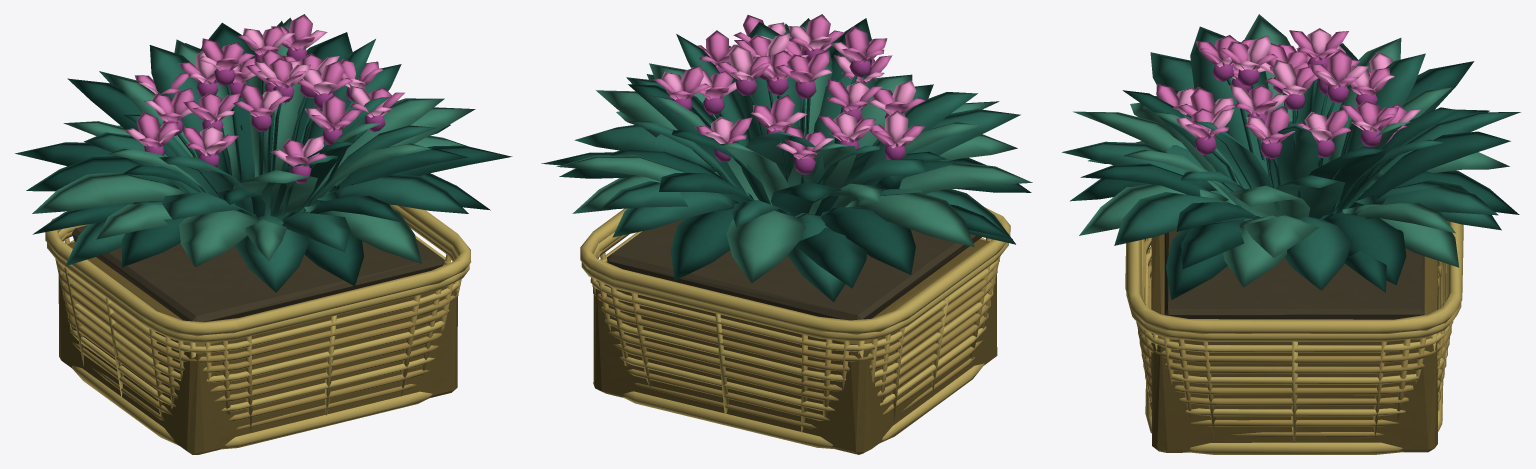
The model's file is 02_Flower_Basket_LOD1.fbx.
3 renders of one model, left to right at view 1: azimuth 30°, elevation 25°; view 2: azimuth 150°, elevation 25°; view 3: azimuth 270°, elevation 25°, orthographic. The views are drawn at different scales.
Visible parts, largest first — view 1: 02_Flower_Basket_LOD1_Mesh; view 2: 02_Flower_Basket_LOD1_Mesh; view 3: 02_Flower_Basket_LOD1_Mesh.
Boxes of the visible parts, x1,y1,x2,y2 form: 02_Flower_Basket_LOD1_Mesh: (15,14,512,454); 02_Flower_Basket_LOD1_Mesh: (541,14,1032,454); 02_Flower_Basket_LOD1_Mesh: (1062,14,1520,454).
Size of the model in its own units: 27.54 by 20.22 by 24.57.
Materials: 1 (1 with a texture image).
